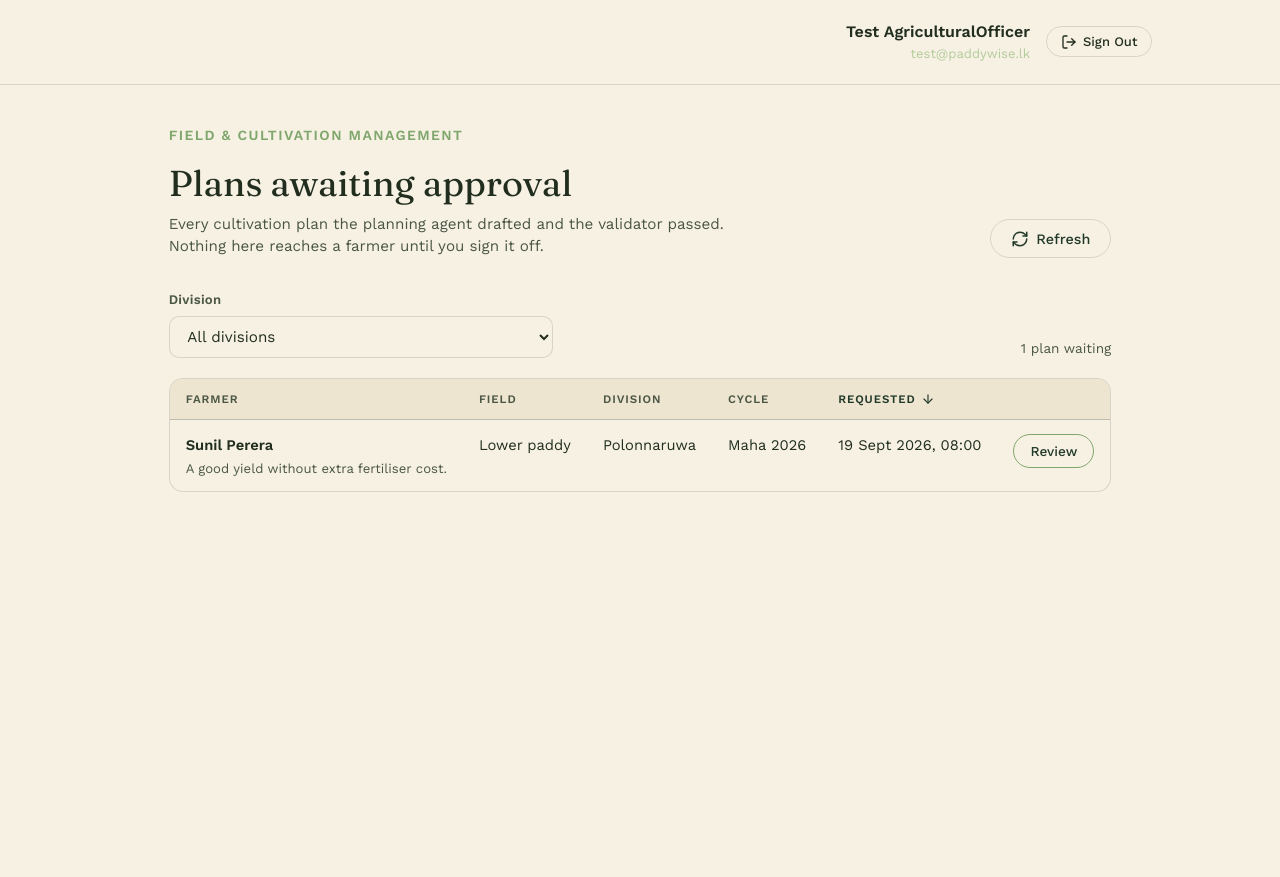
it: PlanApprovalPage › Review opens the plan and a decision posts to the review endpoint, then the queue reloads
Step 1. Click the button "Review" → (1054, 451), box [1014,434,1094,468]
(page scrolled)
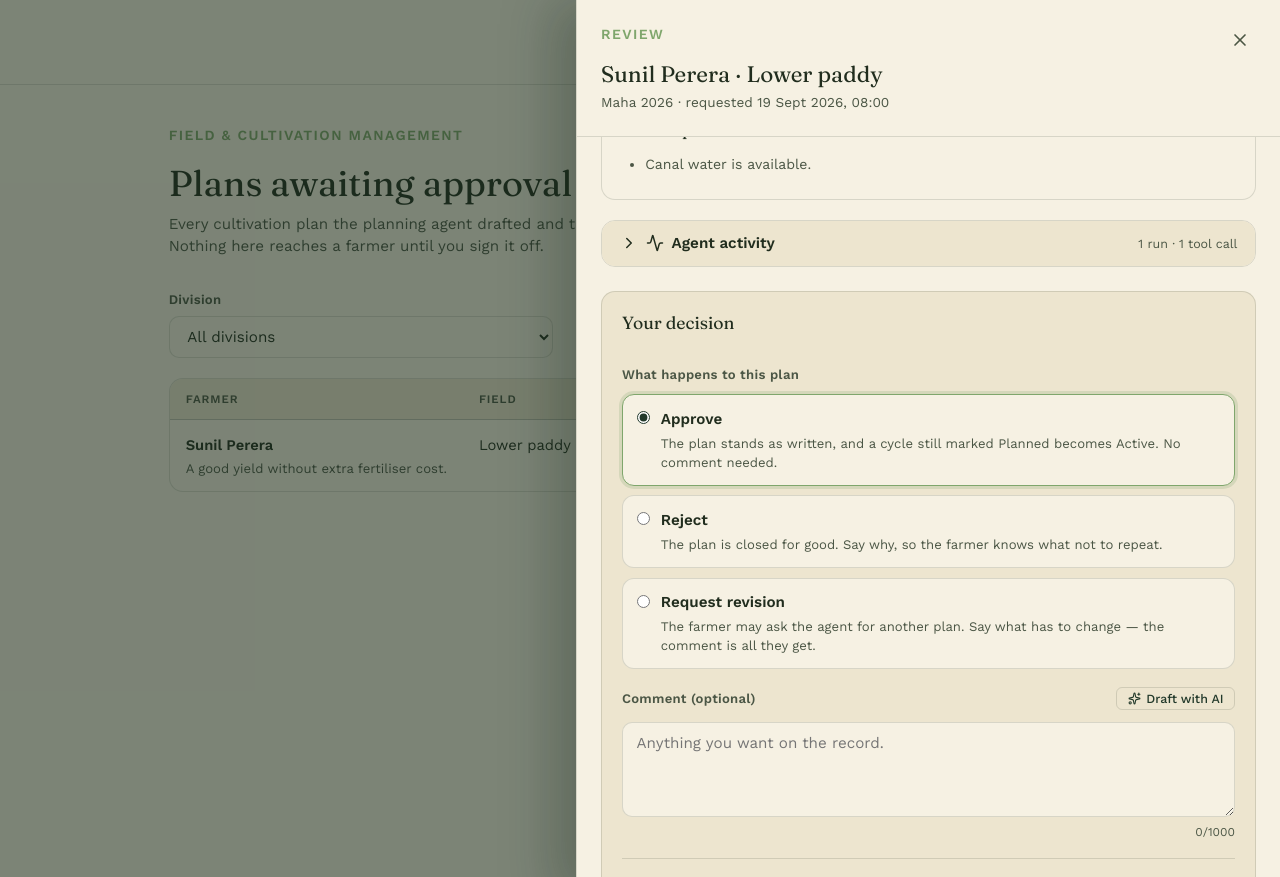
Step 2. Click the radio button labelled "Reject" → (644, 519), box [637,512,650,526]
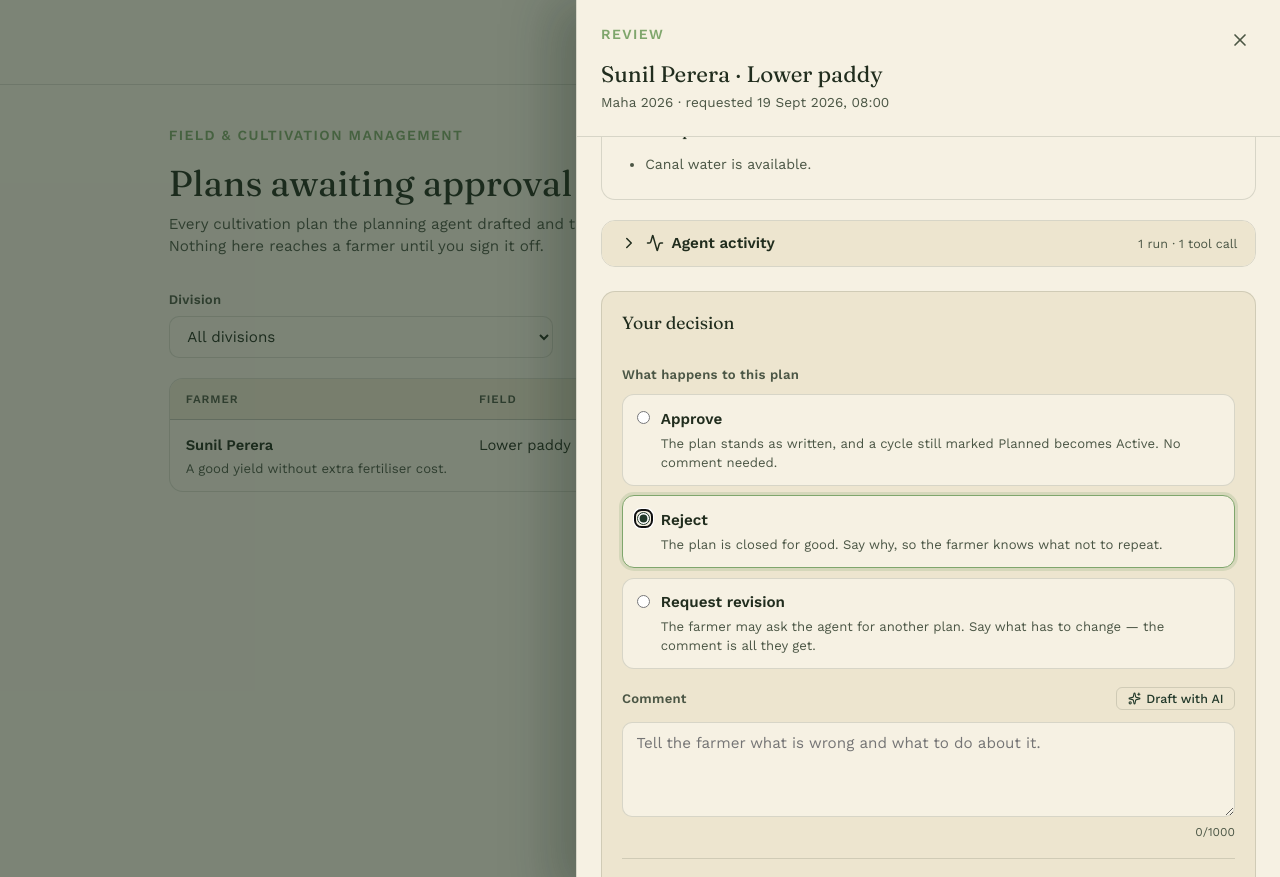
Step 3. Type "Wrong variety for this soil." into the text box → (928, 770), box [622,722,1235,817]
(page scrolled)
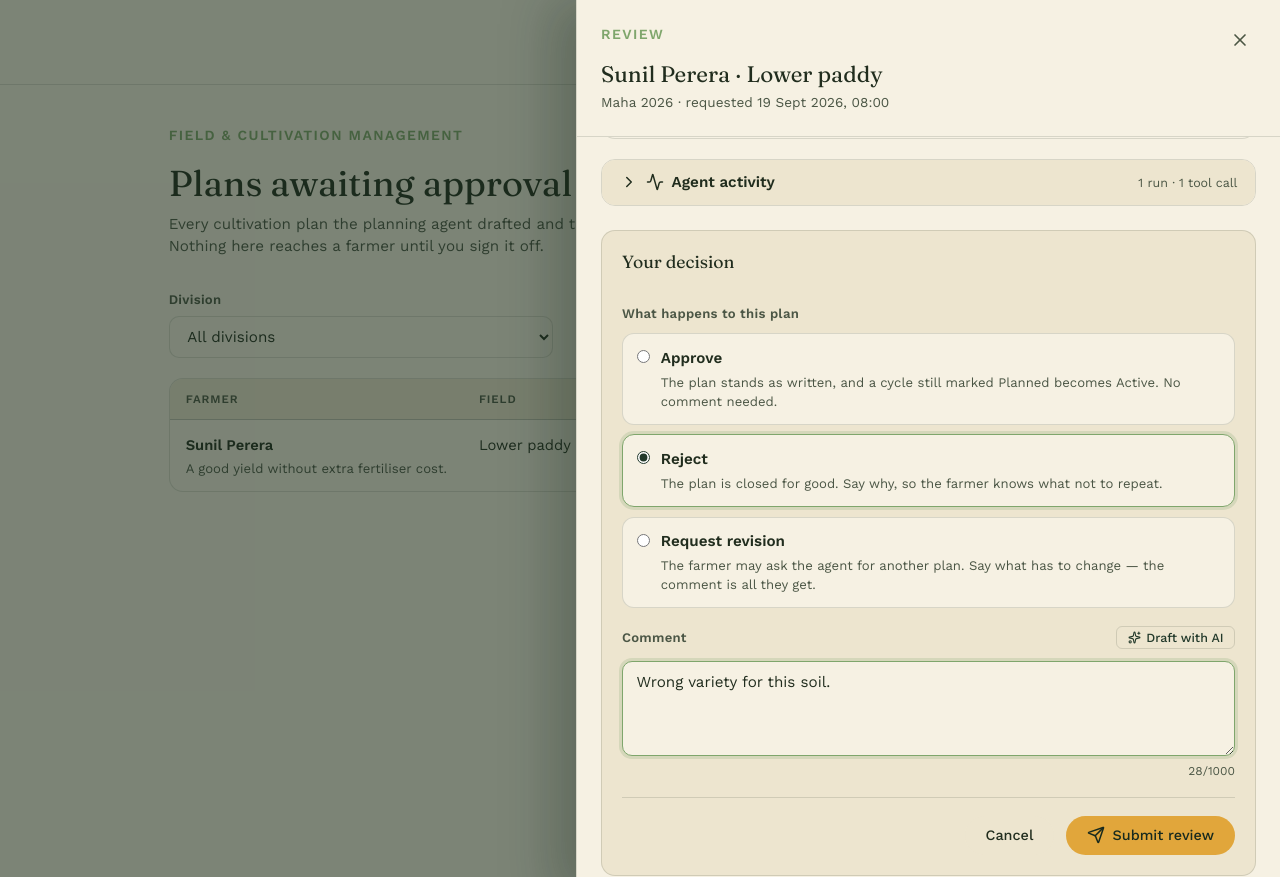
Step 4. Click the button "Submit review" → (1151, 835), box [1066,816,1235,855]
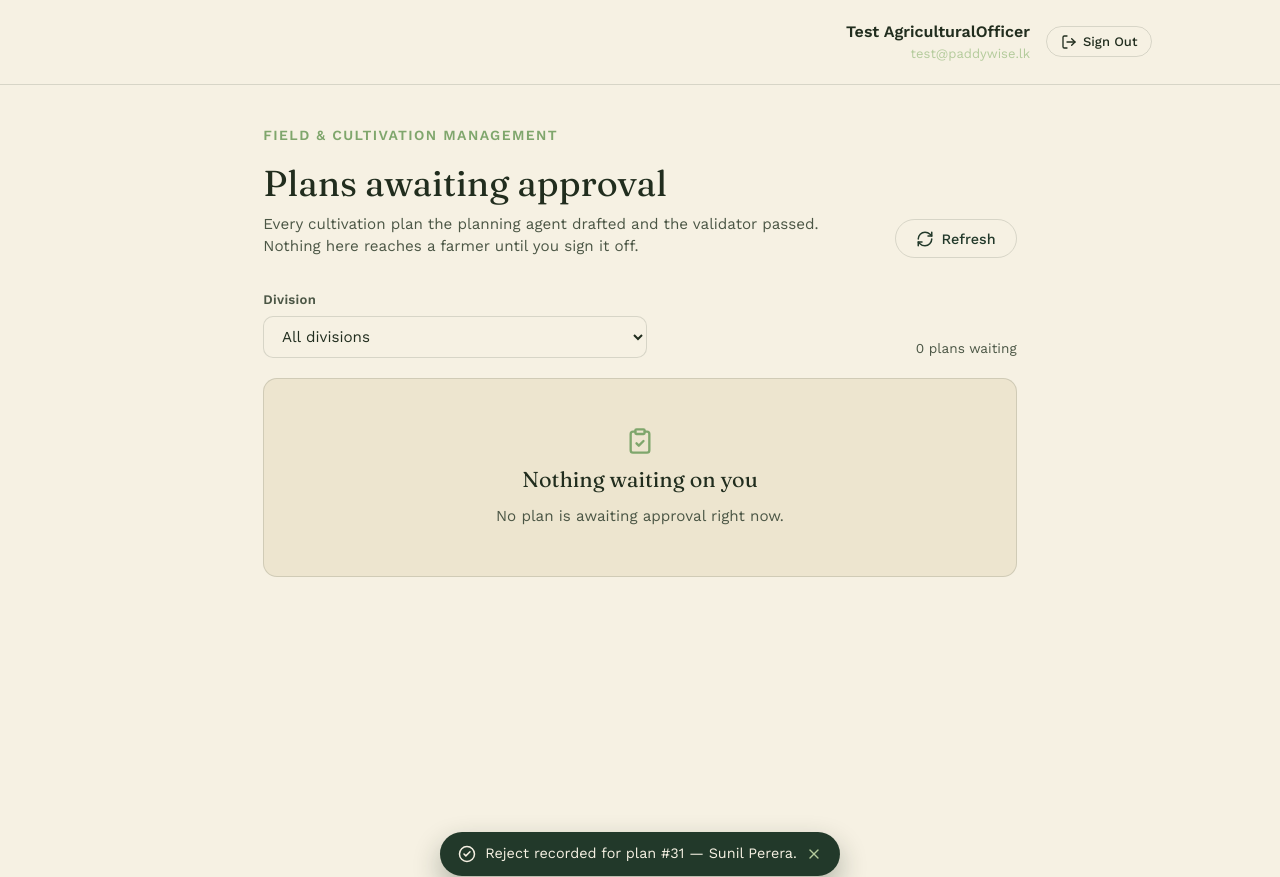
Check: the message reads "Reject recorded for plan #31 — Sunil Perera.", box [485,845,797,861]
